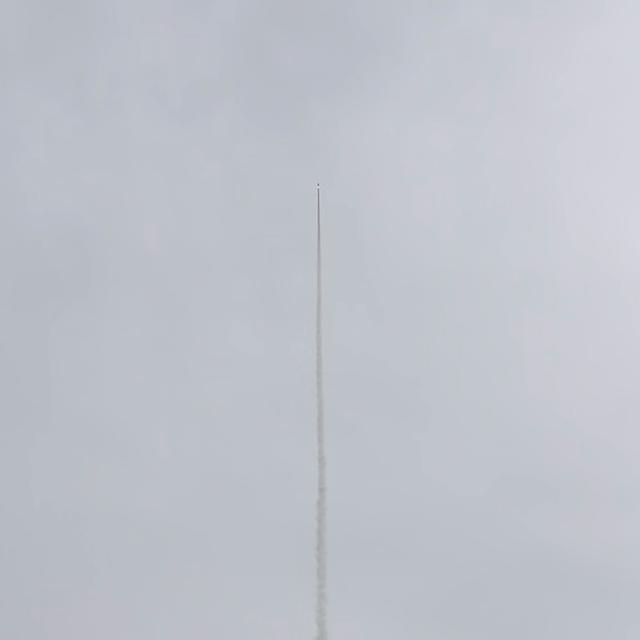smoke_trail_with_rocket: (315, 184, 327, 640)
